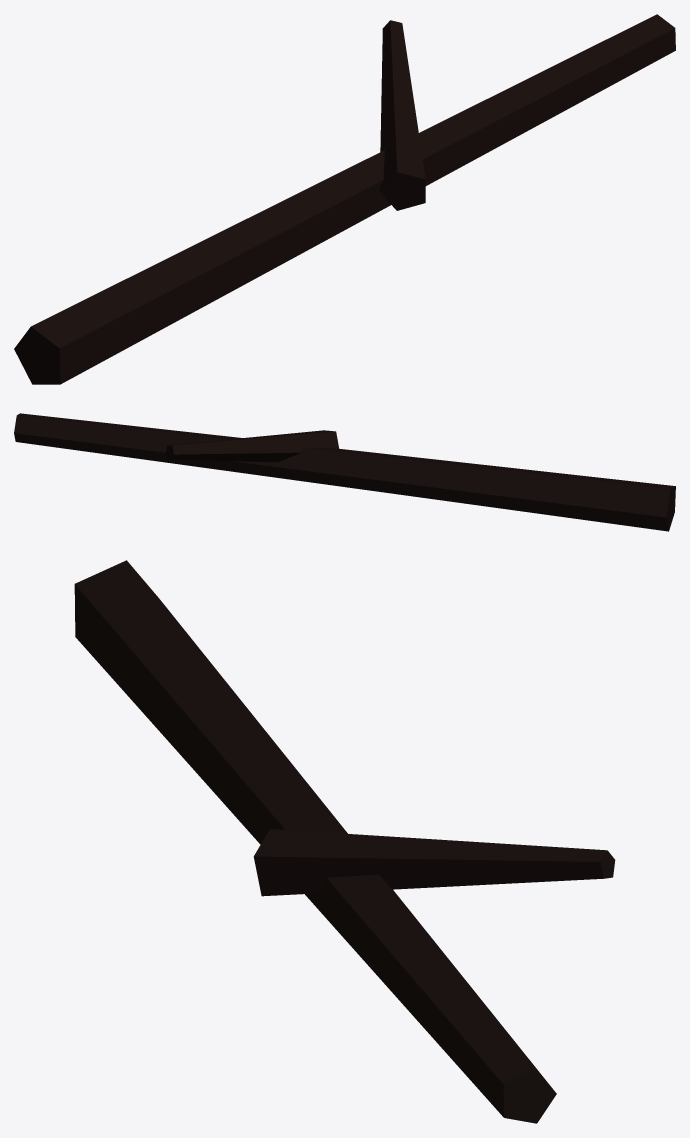
Rendered from Wood_Branch_02.fbx.
The picture shows the model from 3 angles, top to bottom: view 1: azimuth 30°, elevation 25°; view 2: azimuth 150°, elevation 25°; view 3: azimuth 270°, elevation 25°; orthographic projection. The views are drawn at different scales.
Visible parts, largest first — view 1: Wood_Branch_02_Mesh; view 2: Wood_Branch_02_Mesh; view 3: Wood_Branch_02_Mesh.
Boxes of the visible parts, left/top/right/bottom form: Wood_Branch_02_Mesh: left=14, top=14, right=675, bottom=384; Wood_Branch_02_Mesh: left=14, top=413, right=675, bottom=531; Wood_Branch_02_Mesh: left=74, top=560, right=615, bottom=1123.
Bounding box in the file's own units: 0.9225 × 0.1285 × 0.3851.
1 material, 1 textured.
